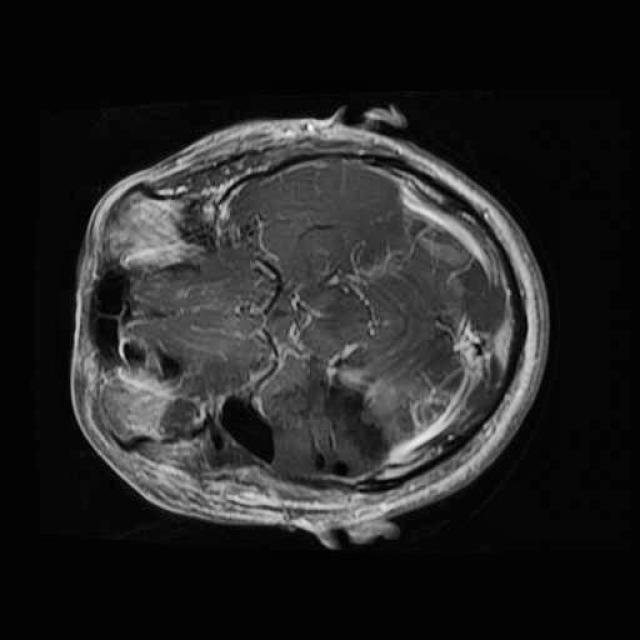Tumor: (192, 358, 418, 506)
